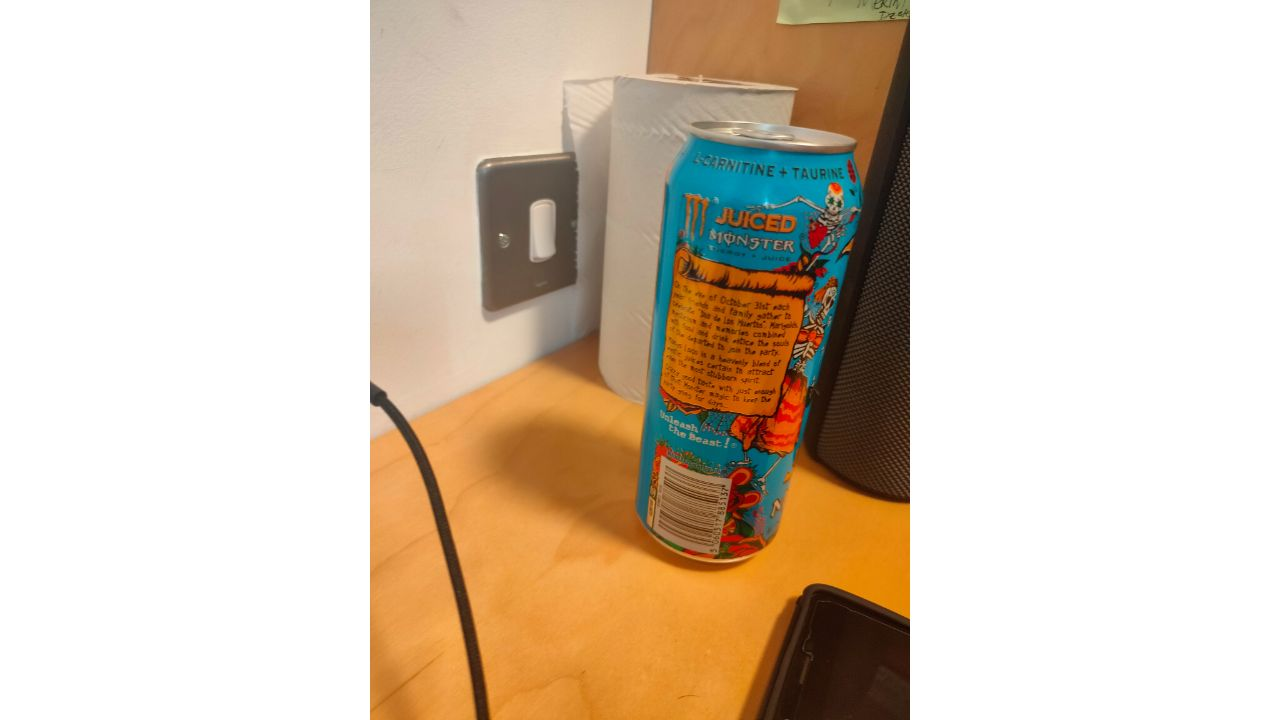Can: (637, 115, 862, 567)
